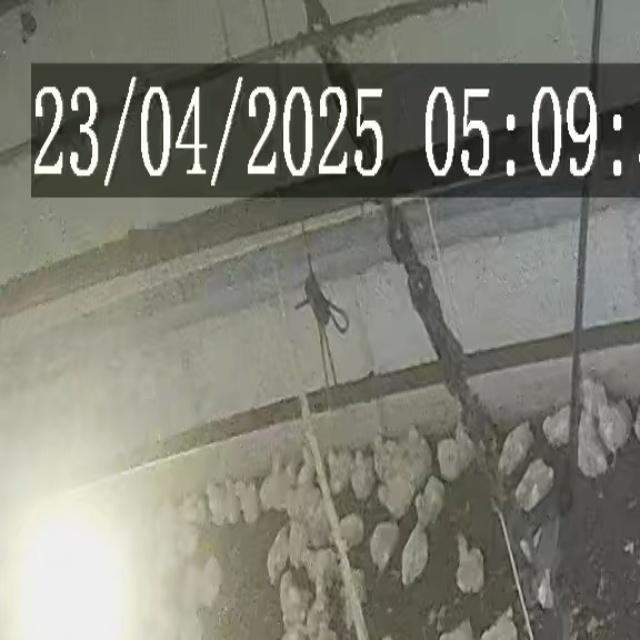chicken: (596, 398, 633, 465), (398, 521, 429, 586), (454, 532, 483, 600), (499, 420, 535, 474), (579, 413, 604, 487), (368, 427, 401, 481), (516, 465, 554, 511), (402, 423, 428, 482), (263, 529, 289, 587), (376, 480, 414, 519), (306, 572, 330, 632), (481, 605, 522, 640), (326, 513, 369, 545), (260, 455, 282, 517), (371, 521, 397, 573), (279, 572, 304, 624), (199, 557, 223, 611), (289, 446, 313, 500), (414, 480, 444, 522), (301, 550, 333, 587), (543, 409, 574, 445), (217, 475, 237, 529), (328, 455, 353, 497), (234, 480, 256, 527), (275, 461, 295, 509), (203, 481, 223, 526), (578, 380, 606, 411), (440, 441, 463, 478), (352, 455, 370, 500), (284, 529, 302, 572), (437, 620, 475, 640)
